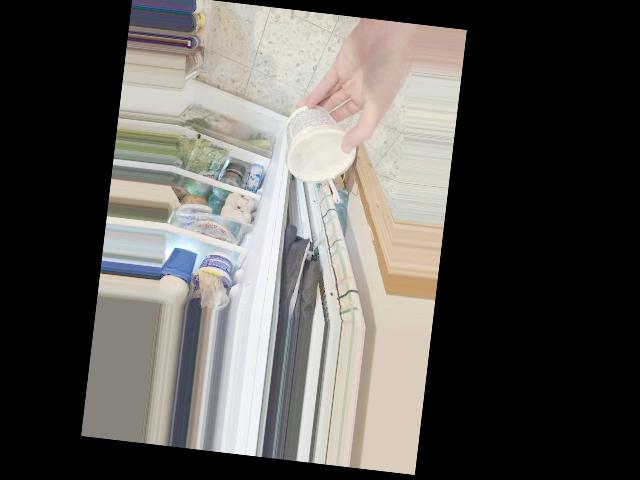cotage: (281, 97, 368, 185)
